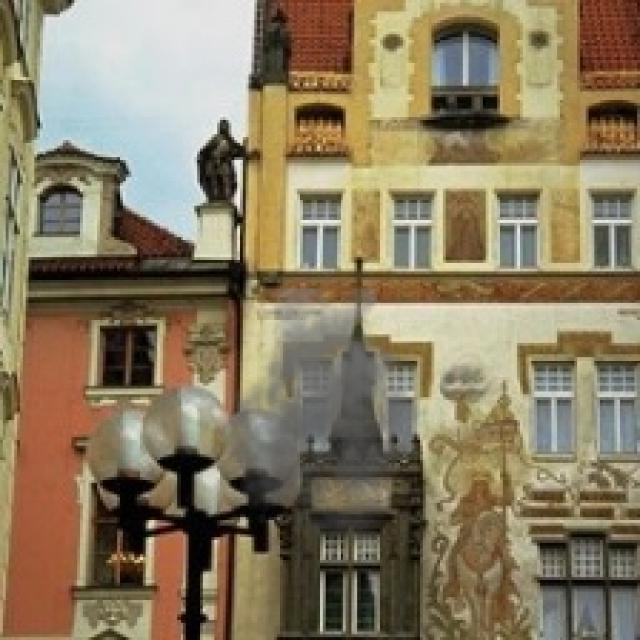Smoke: (220, 288, 437, 548)
